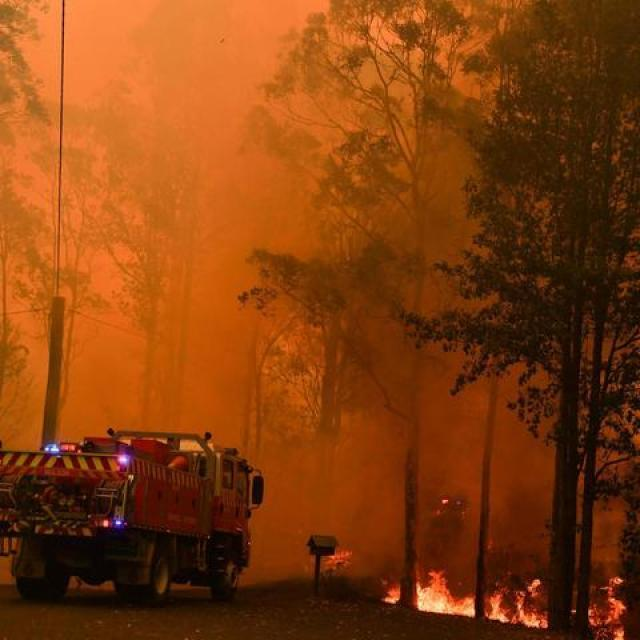Fire: (381, 554, 551, 640), (581, 553, 640, 640)
Smoke: (248, 4, 472, 243), (250, 243, 482, 463), (21, 2, 247, 220), (25, 220, 246, 432)
